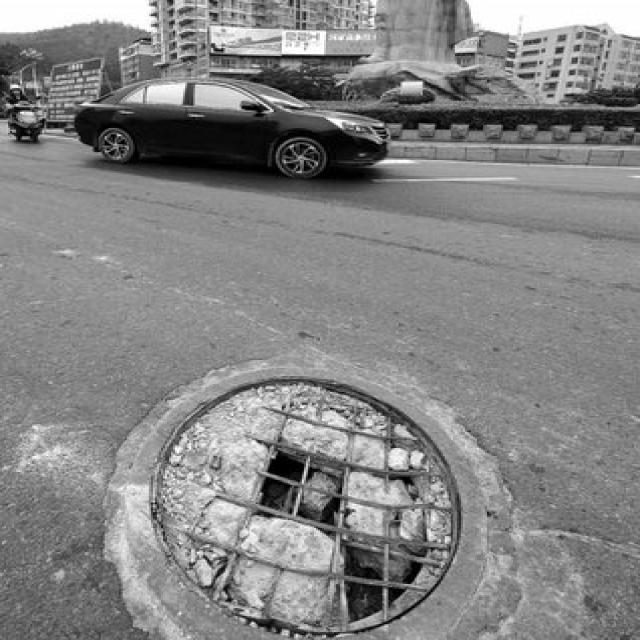manhole: (111, 363, 481, 634)
